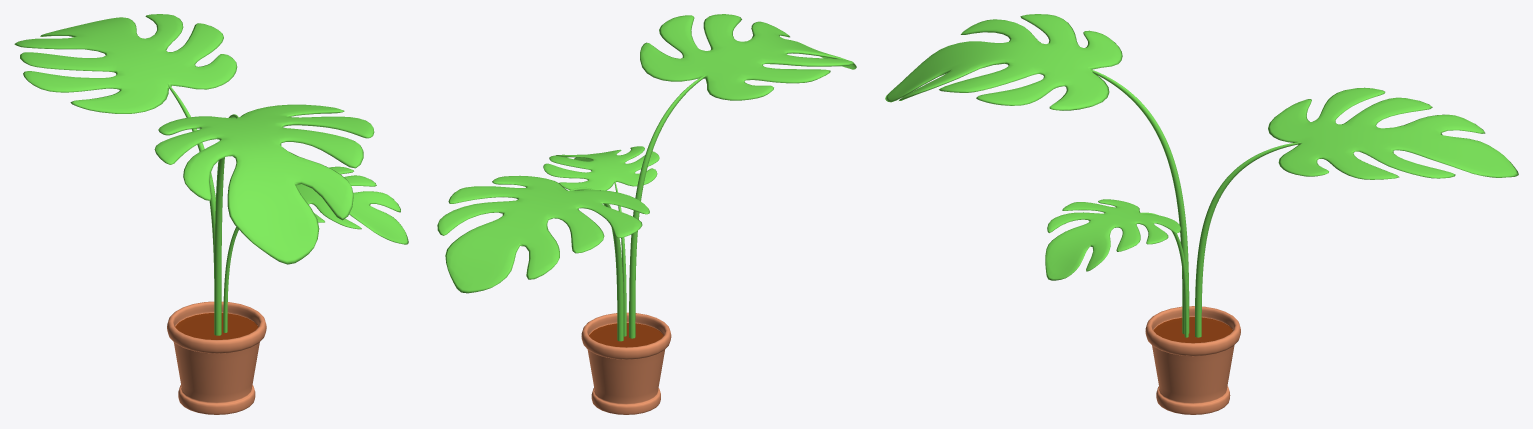
File: TallPlant2.fbx
3 views of the same model, side by side, from view 1: azimuth 30°, elevation 25°; view 2: azimuth 150°, elevation 25°; view 3: azimuth 270°, elevation 25° (orthographic). The views are drawn at different scales.
Visible parts, largest first — view 1: NurbsPath.004; view 2: NurbsPath.004; view 3: NurbsPath.004.
Part boxes in pixels (<box>): NurbsPath.004: <box>14,14,408,414</box>; NurbsPath.004: <box>437,14,856,414</box>; NurbsPath.004: <box>885,14,1518,414</box>.
Bounding box in the file's own units: 948 × 1133 × 2018.
